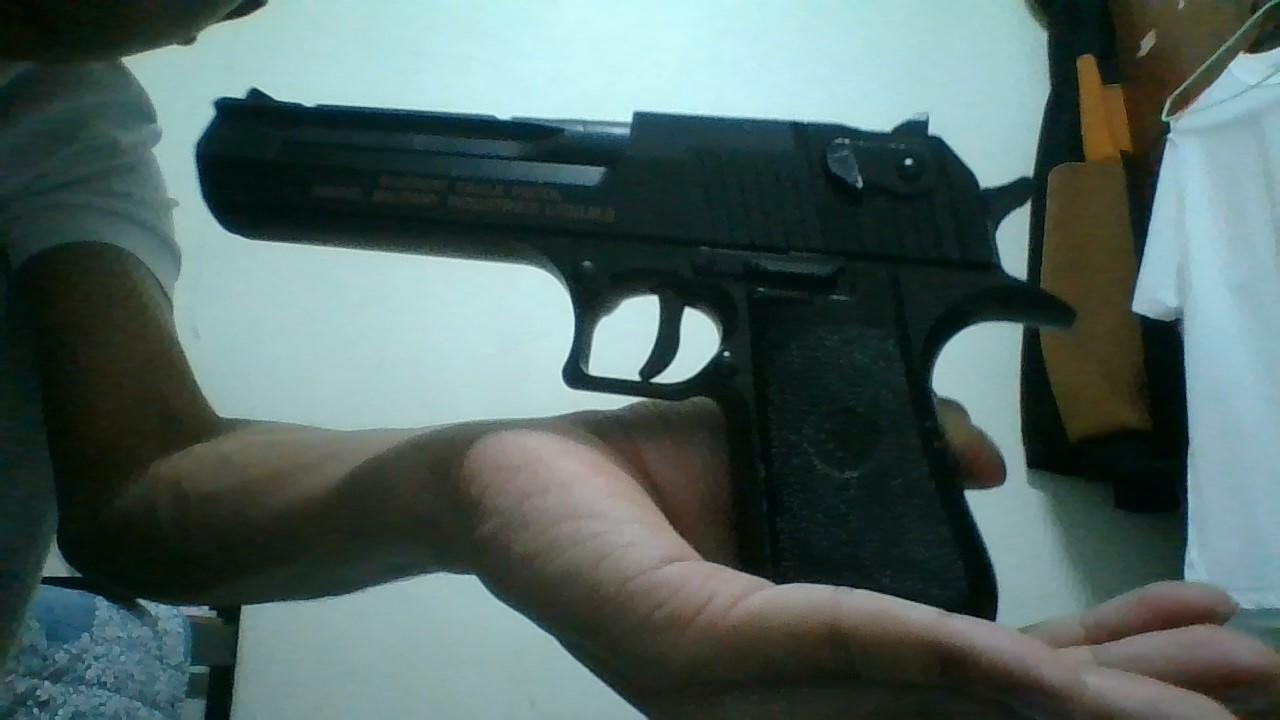weapon: (193, 84, 1084, 623)
